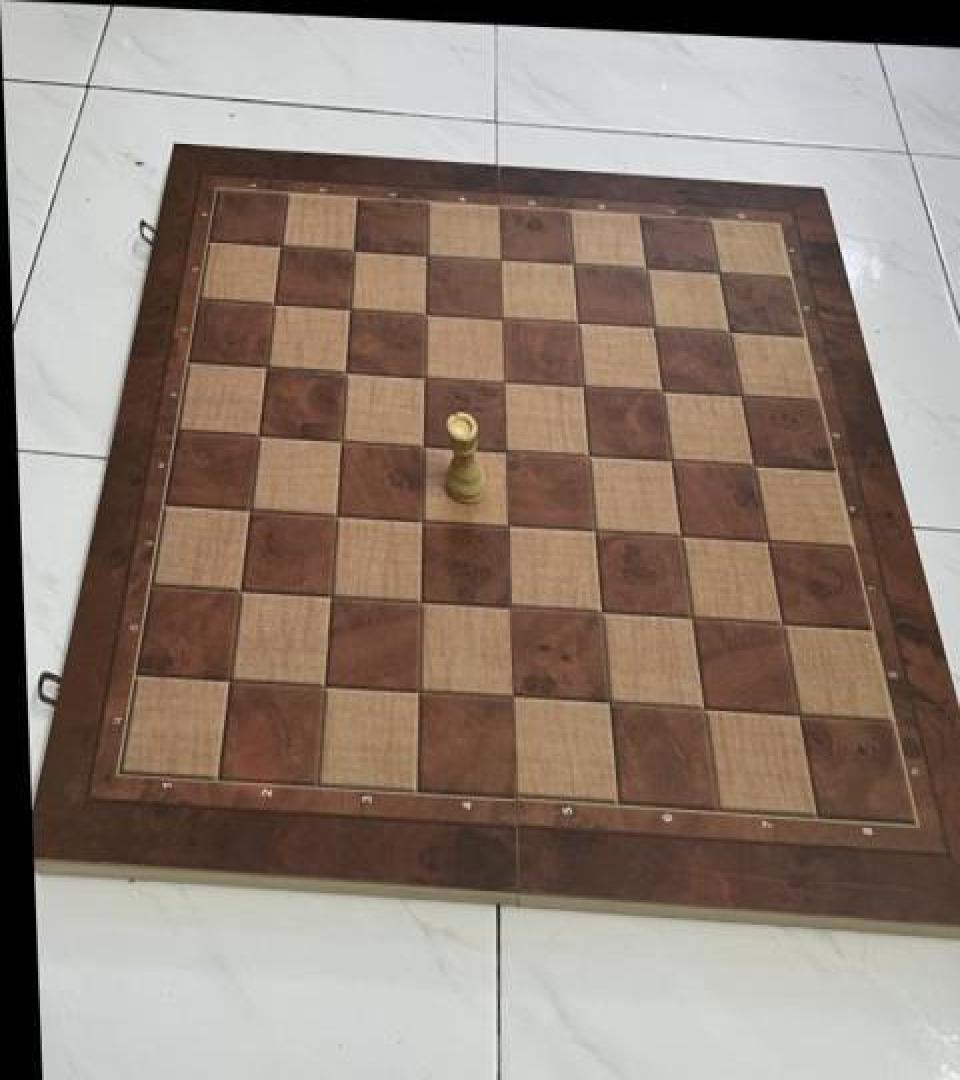xcorner: (327, 353, 361, 392), (571, 436, 605, 475), (764, 606, 798, 645), (211, 661, 245, 700), (703, 255, 737, 293), (629, 250, 663, 288), (556, 244, 590, 282), (482, 240, 516, 278), (409, 235, 443, 273), (335, 231, 369, 269), (262, 226, 296, 264), (713, 313, 747, 351), (637, 308, 671, 346), (560, 304, 594, 342), (484, 300, 518, 338), (407, 295, 441, 333), (331, 289, 365, 327), (255, 285, 289, 323), (724, 378, 758, 416), (645, 372, 679, 410), (565, 368, 599, 406), (486, 362, 520, 400), (406, 358, 440, 396), (247, 348, 281, 386), (736, 448, 770, 486), (653, 442, 687, 480), (488, 432, 522, 470), (405, 426, 439, 464), (322, 422, 356, 460), (239, 416, 273, 454), (749, 523, 783, 561), (663, 518, 697, 556), (576, 512, 610, 550), (404, 502, 438, 540), (317, 496, 351, 534), (231, 490, 265, 528), (673, 601, 707, 639), (583, 595, 617, 633), (492, 590, 526, 628), (402, 584, 436, 622), (311, 578, 345, 616), (221, 573, 255, 611), (780, 698, 814, 736), (685, 691, 719, 729), (590, 685, 624, 723), (495, 680, 529, 718), (400, 673, 434, 711), (305, 667, 339, 705), (490, 508, 524, 545)
